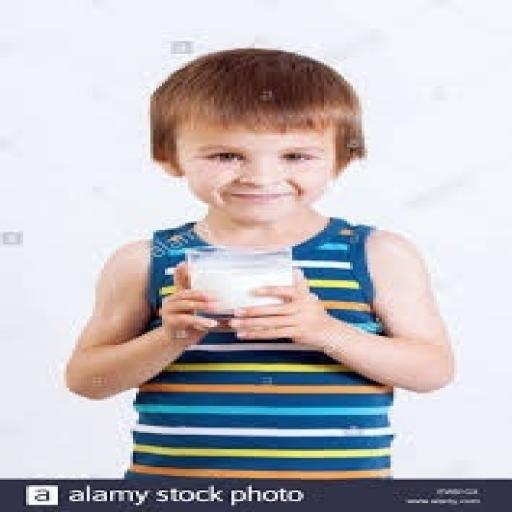drinking: (182, 244, 295, 329)
